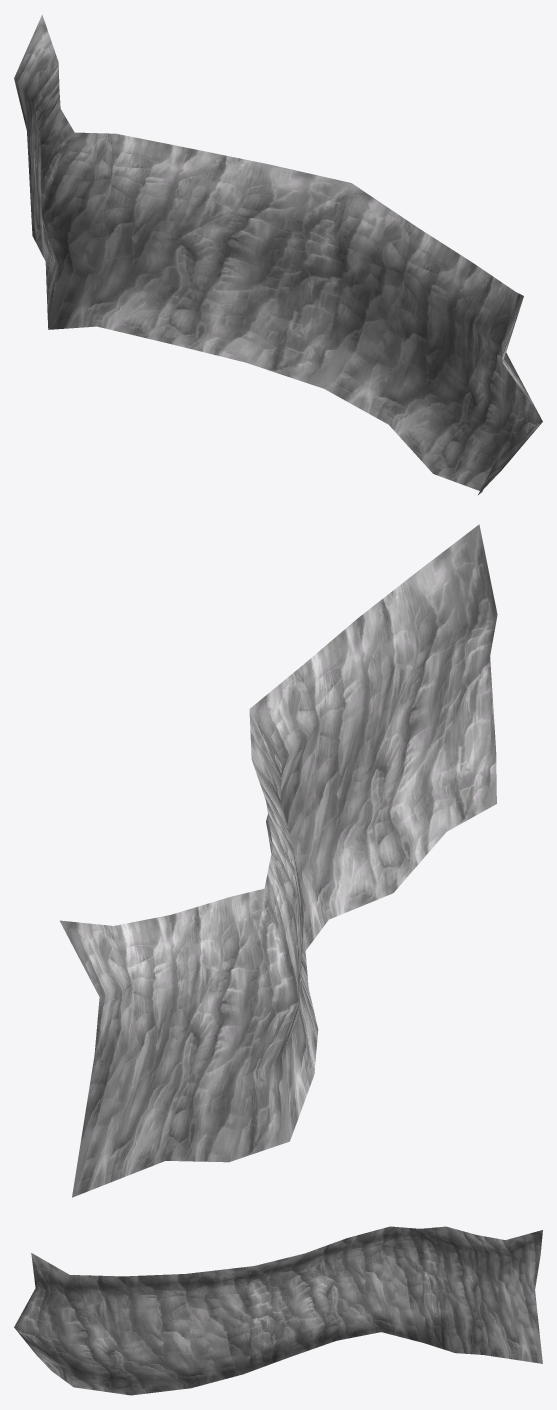
Rendered from SWORDLIGHT20_PS-AREA03_157.fbx.
3 renders of one model, top to bottom at view 1: azimuth 30°, elevation 25°; view 2: azimuth 150°, elevation 25°; view 3: azimuth 270°, elevation 25°, orthographic. The views are drawn at different scales.
Parts seen in each view (by area): view 1: SWORDLIGHT20_PS-AREA03_157; view 2: SWORDLIGHT20_PS-AREA03_157; view 3: SWORDLIGHT20_PS-AREA03_157.
Part boxes in pixels (box(x1,y1,x2,y2)): SWORDLIGHT20_PS-AREA03_157: box(14, 15, 542, 494); SWORDLIGHT20_PS-AREA03_157: box(60, 524, 497, 1197); SWORDLIGHT20_PS-AREA03_157: box(14, 1226, 542, 1395).
Size of the model in its own units: 47805 by 55716 by 182172.
Materials: 1 (1 with a texture image).
